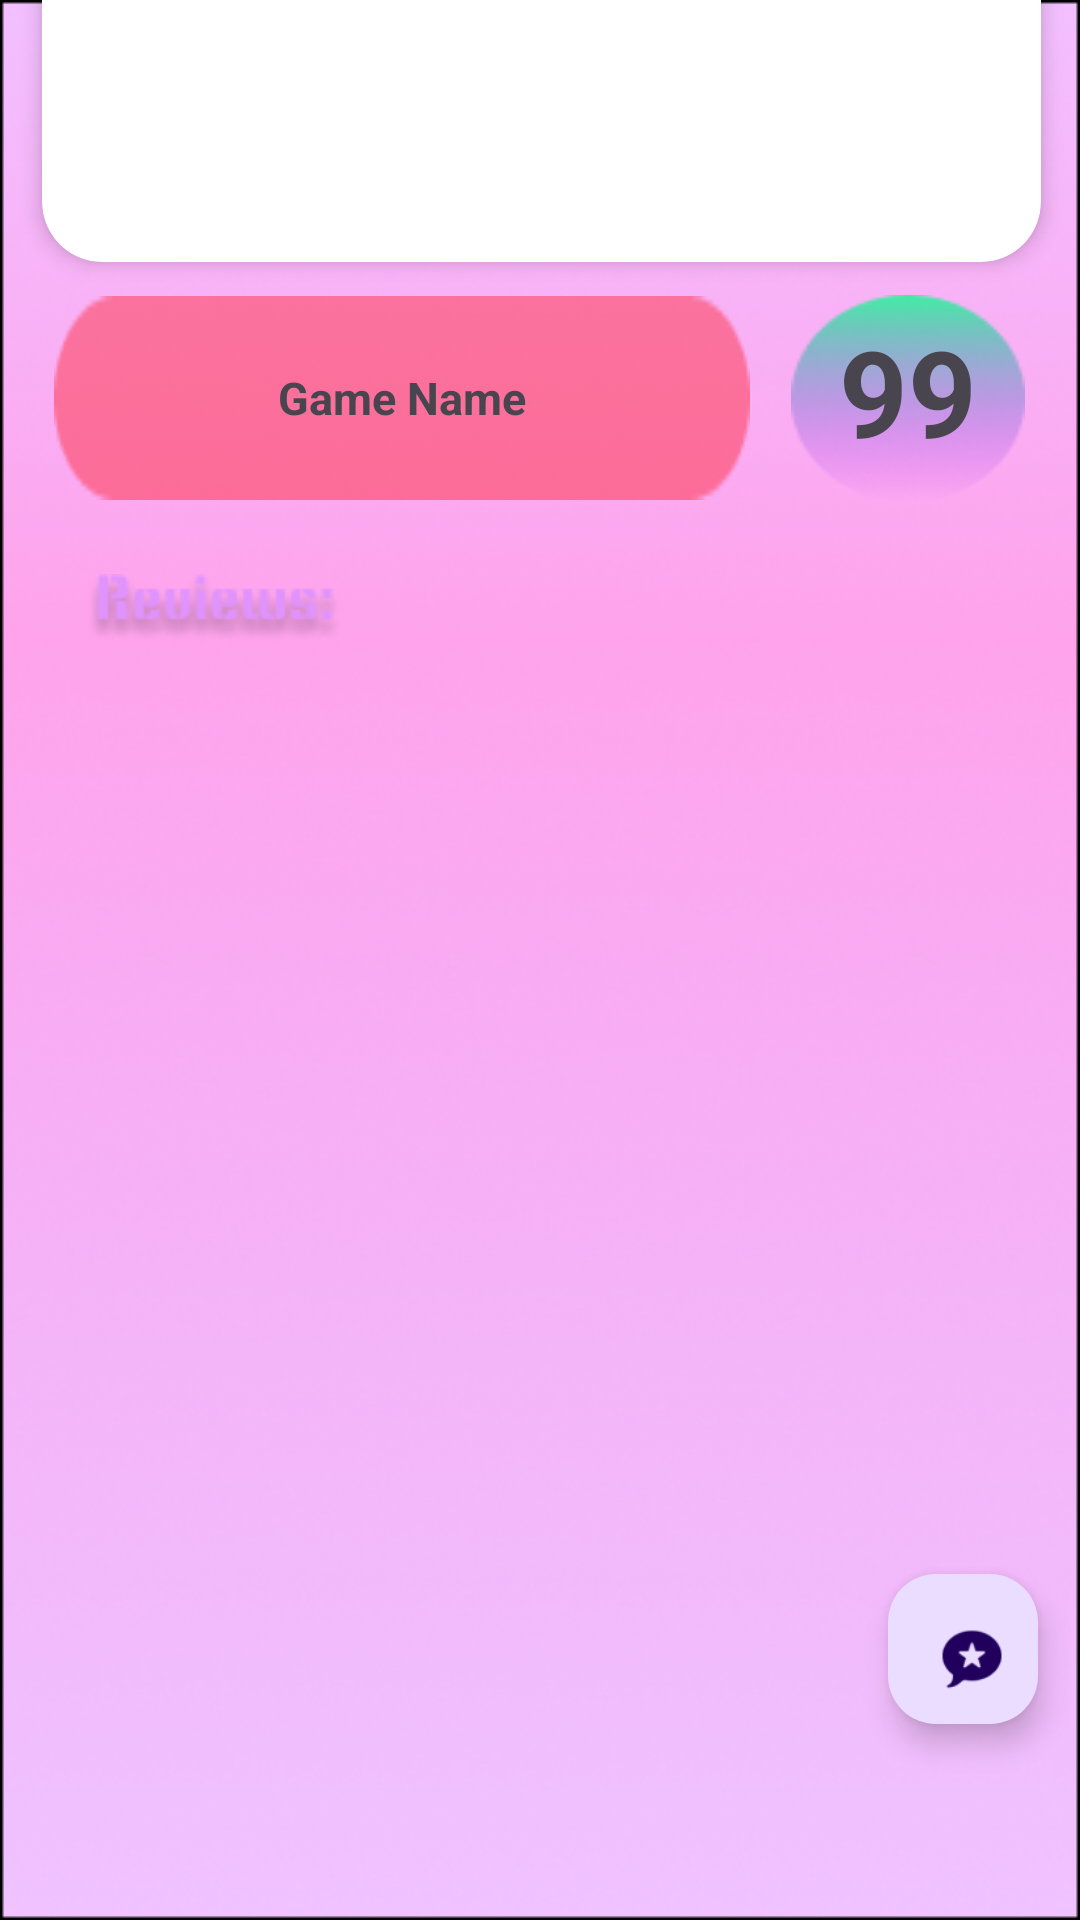

Locate icon controls on the screen. Image size 1080w x 1920h, boxes as bbox(x1, y1, x2, y2).
review addrv: bbox(888, 1574, 1038, 1724)
